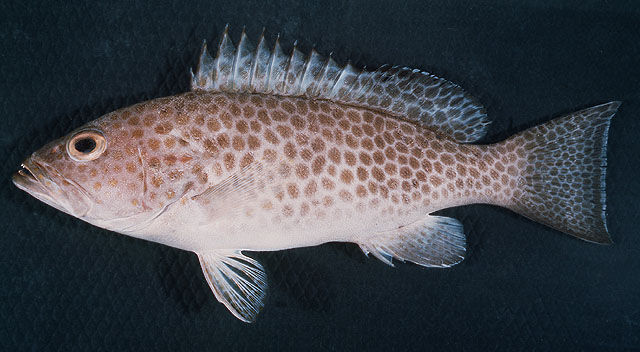fish: (12, 23, 624, 325)
